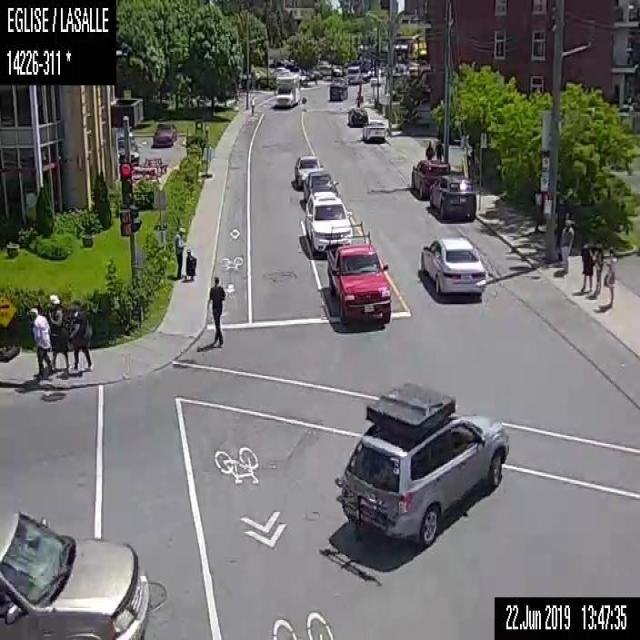cyclist: (248, 92, 256, 117)
pedestrian: (67, 298, 95, 374), (46, 292, 71, 373), (28, 294, 52, 378), (203, 275, 226, 348), (173, 230, 196, 282), (557, 220, 575, 272), (603, 246, 617, 310), (590, 242, 603, 300), (581, 239, 592, 296), (434, 139, 444, 157), (424, 139, 433, 158)
vehicle: (338, 384, 510, 547), (0, 508, 150, 639), (329, 220, 391, 324), (419, 232, 489, 296), (304, 191, 352, 254), (429, 174, 476, 220), (410, 158, 450, 197), (303, 169, 339, 204), (115, 125, 142, 167), (294, 154, 322, 188), (274, 70, 299, 106), (152, 120, 178, 146), (362, 118, 386, 141), (328, 75, 348, 101), (346, 104, 367, 126), (346, 64, 360, 83)
